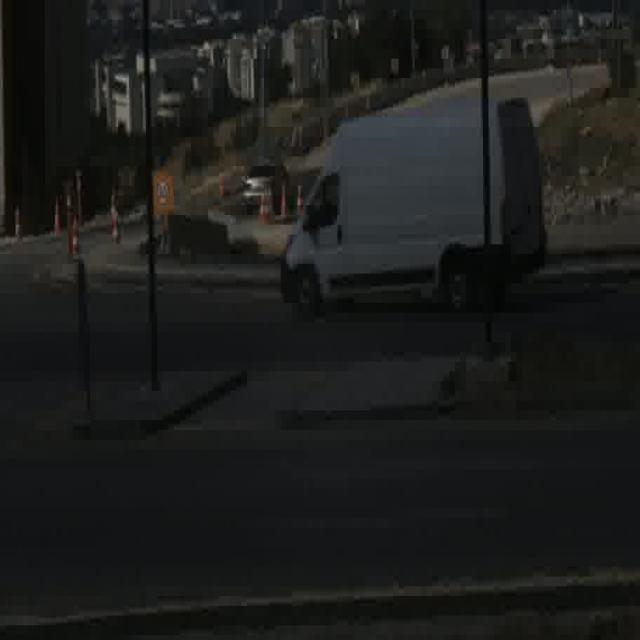Car: (282, 98, 544, 312), (244, 162, 288, 217)
